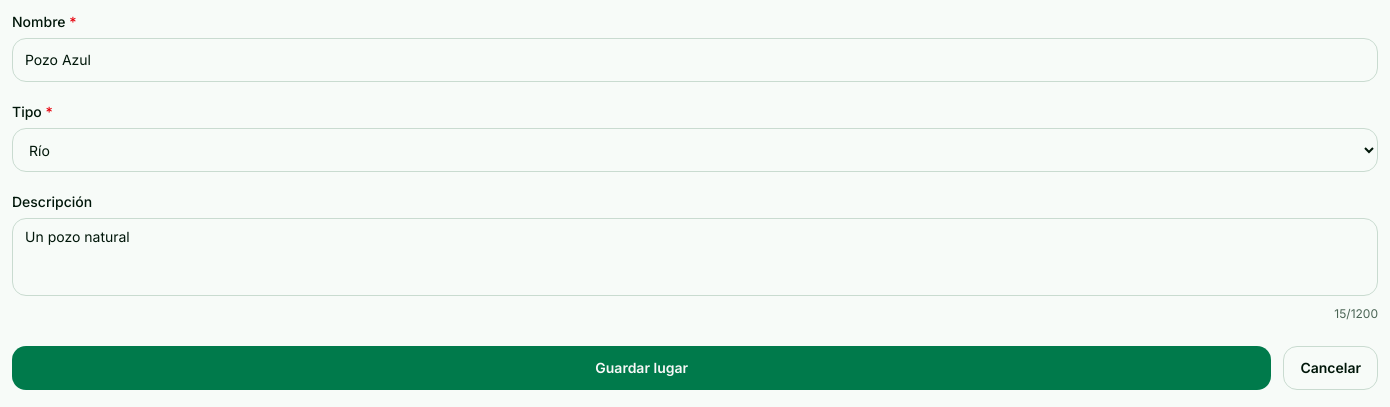
Scenario: LugarForm › disables the submit button and shows the pending label while the action is in flight
This screenshot has width=1390, height=407.
Click the button "Guardar lugar" at coordinates (642, 368), box [12,346,1271,390]
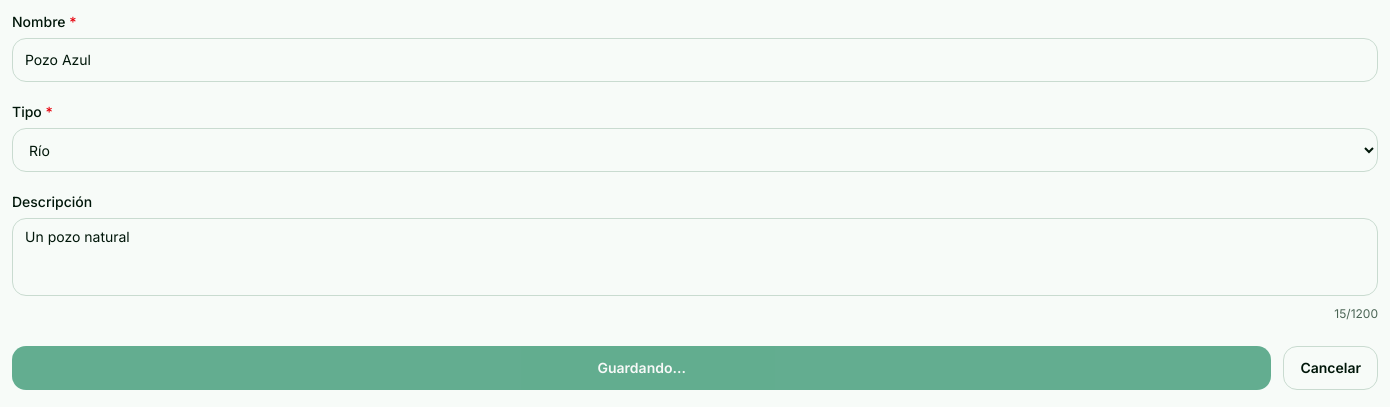
expect the button "Guardando..." is disabled: met, box [12,346,1271,390]
